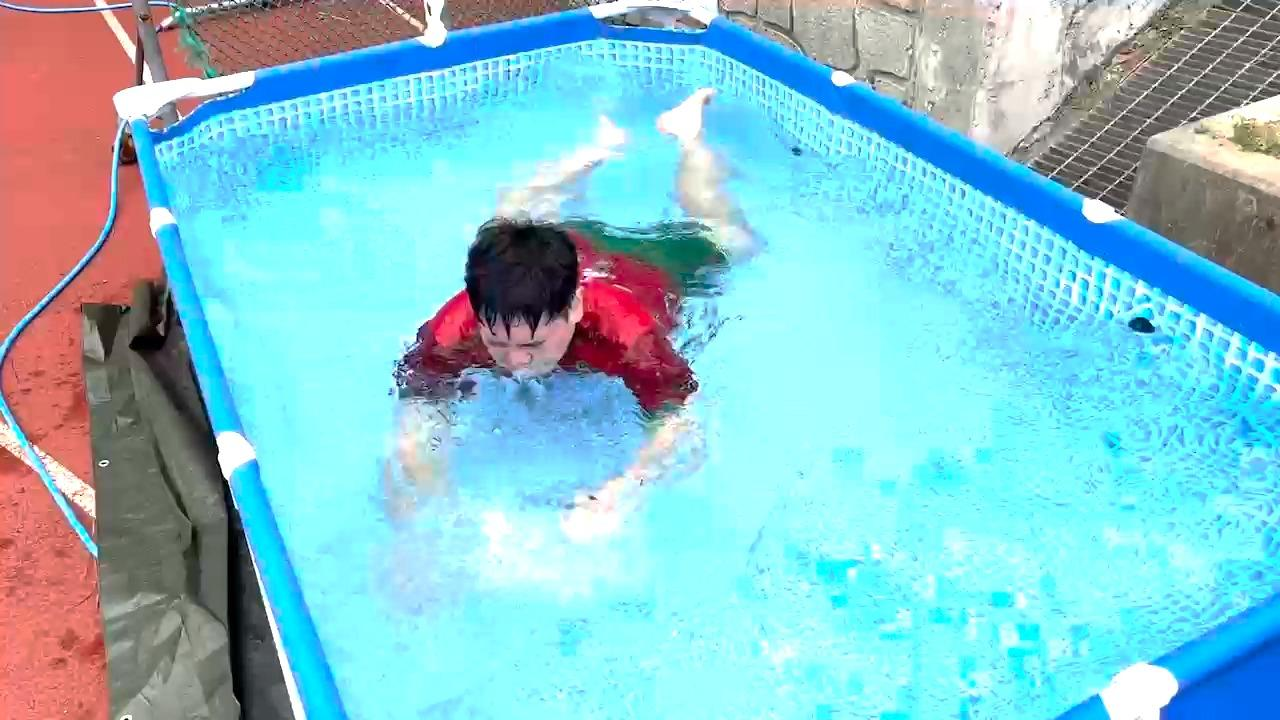Drowning: (397, 50, 783, 549)
